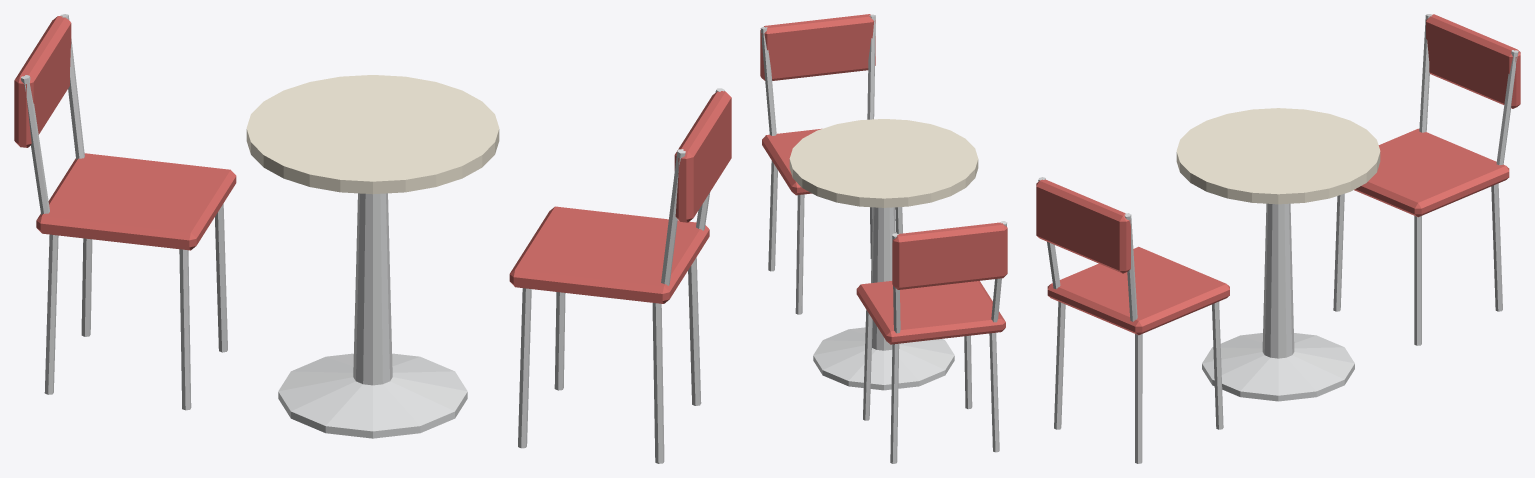
Rendered from table2.glb.
3 views of the same model, side by side, from view 1: azimuth 30°, elevation 25°; view 2: azimuth 150°, elevation 25°; view 3: azimuth 270°, elevation 25° (orthographic). The views are drawn at different scales.
Parts seen in each view (by area): view 1: table2_booth, table2_steel, table2_formica; view 2: table2_booth, table2_steel, table2_formica; view 3: table2_booth, table2_steel, table2_formica.
Boxes of the visible parts, x1,y1,x2,y2 form: table2_booth: (14,16,731,303); table2_steel: (21,14,724,463); table2_formica: (246,75,499,194); table2_booth: (760,14,1007,344); table2_steel: (760,14,1006,463); table2_formica: (789,119,978,207); table2_booth: (1036,14,1520,335); table2_steel: (1038,14,1518,463); table2_formica: (1176,108,1380,204).
Size of the model in its own units: 1.52 by 0.882 by 1.52.
